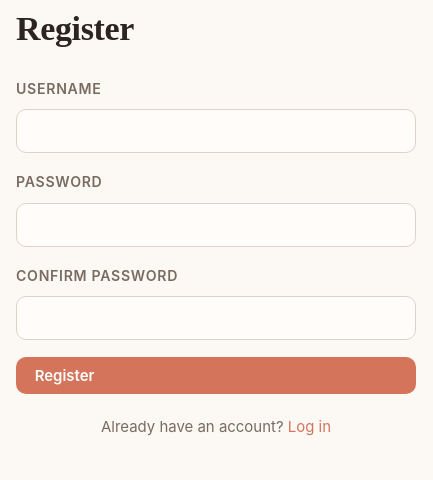
it: Register › shows password length hint
In the password field labelled "Password": (216,225) [16, 203, 416, 247], type "abc"
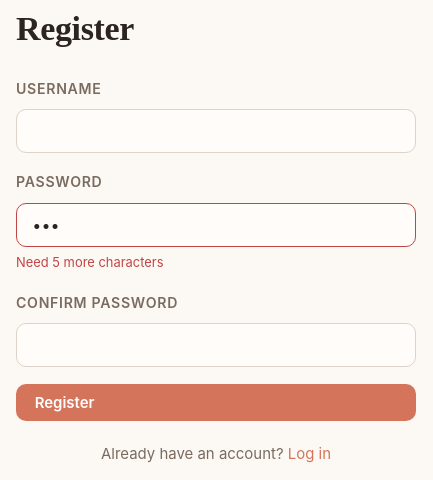
Check: the text "Need 5 more characters" is shown, box [16, 254, 164, 270]
